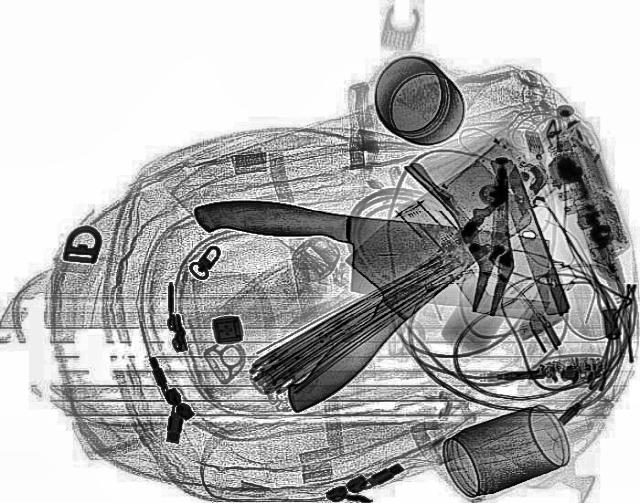Knife: (220, 152, 550, 416), (176, 188, 558, 318), (472, 165, 524, 317)
